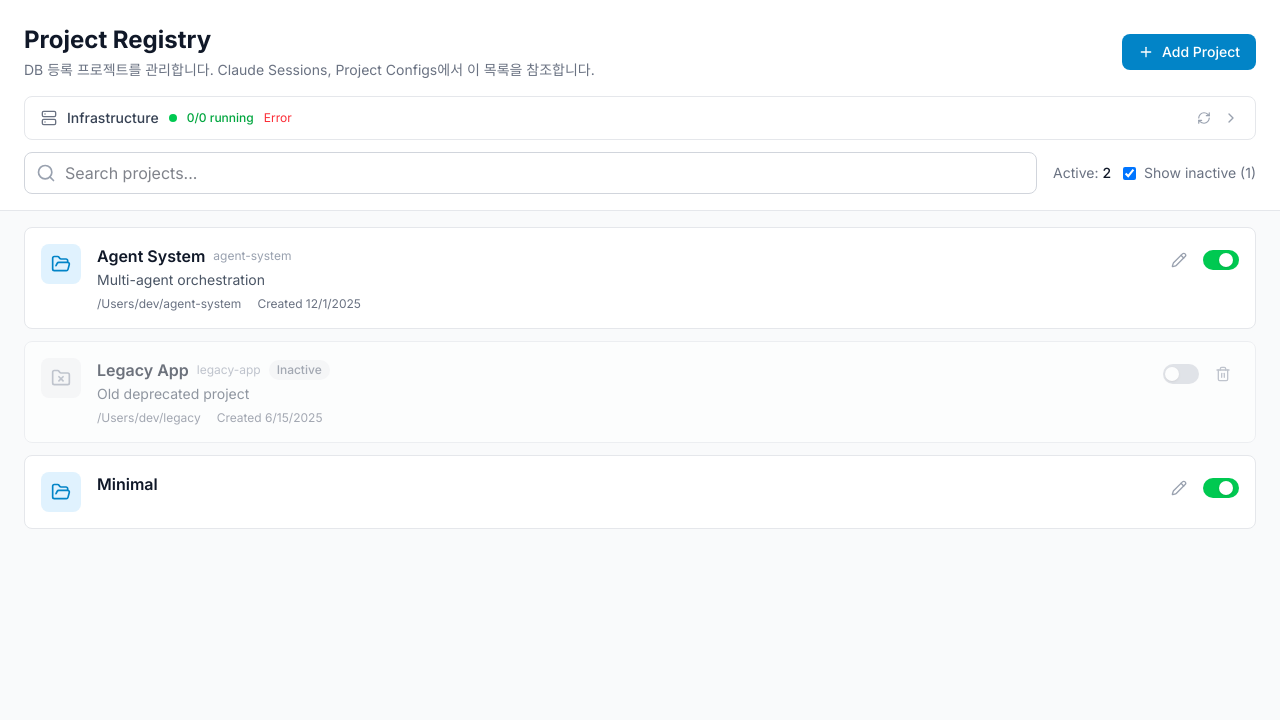
Test: ProjectManagementPage › search filtering › filters by project name
Type "Agent" into the field with placeholder "Search projects..." at (531, 173), box [24,152,1037,194]
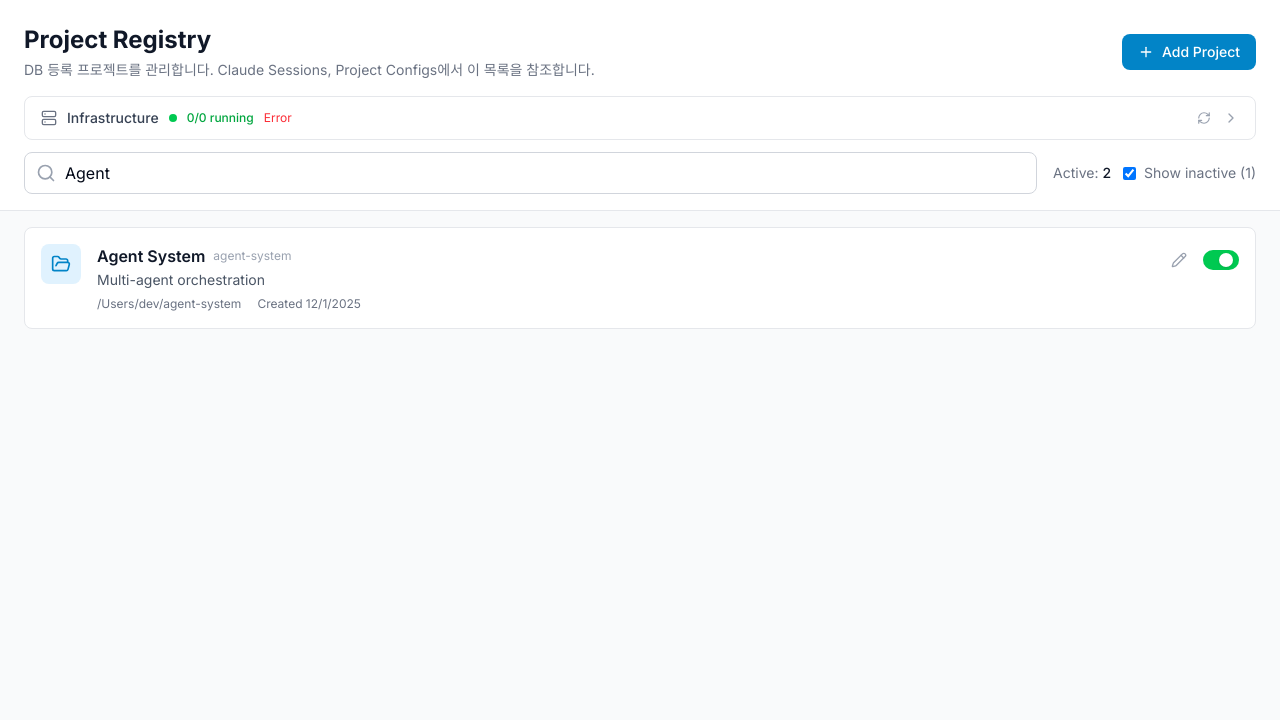
Check: the heading "Agent System" is shown, box [97,244,205,268]
Check: the heading "Legacy App" is gone
Check: the heading "Minimal" is gone
